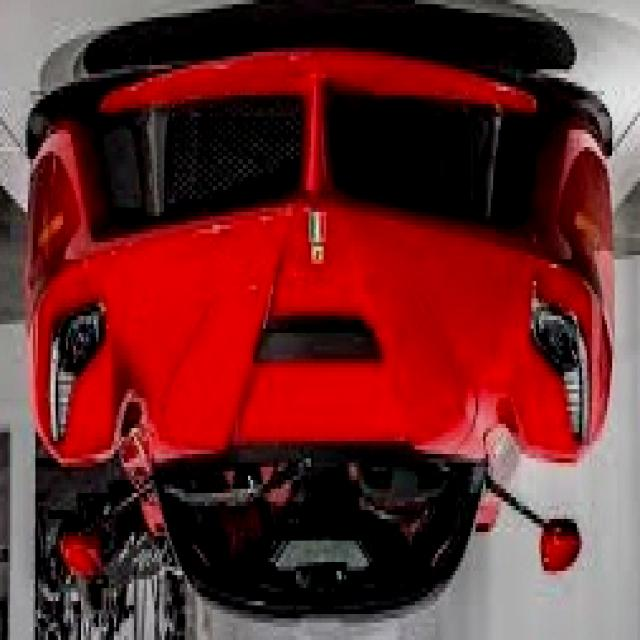red: (31, 40, 614, 618)
